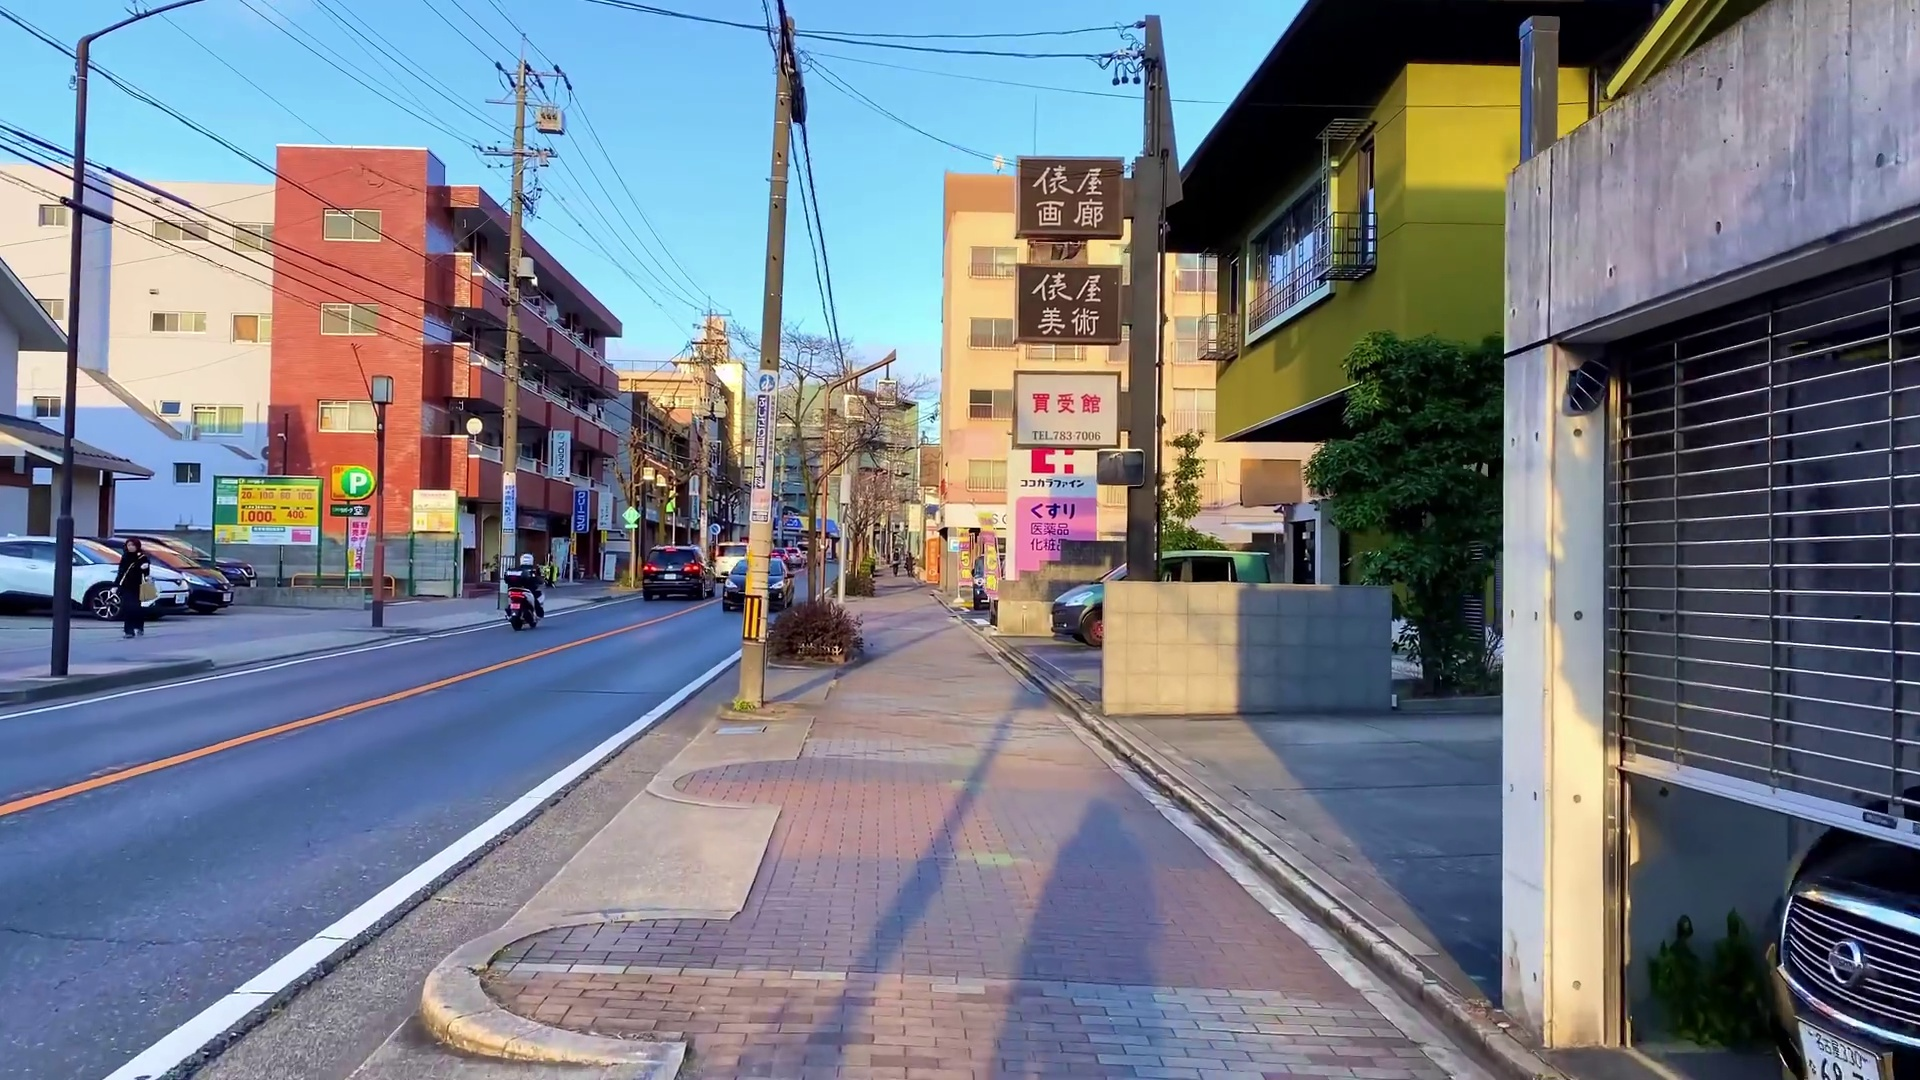car: (641, 546, 712, 607)
